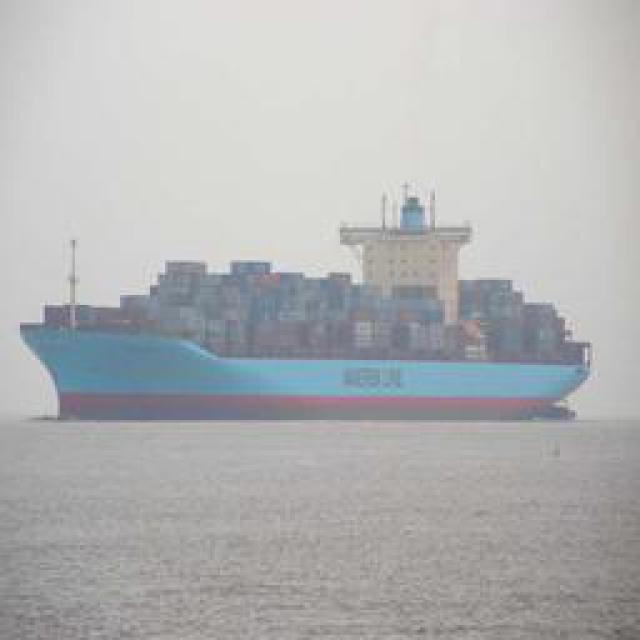Ship: (8, 170, 606, 428)
